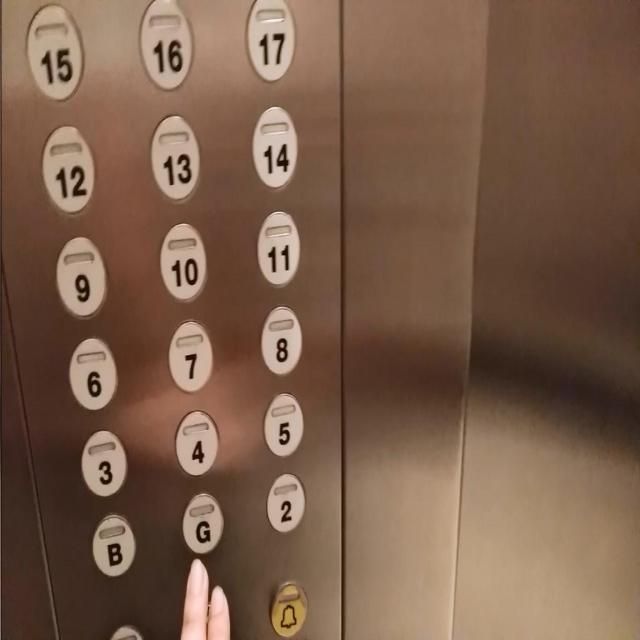10: (158, 218, 208, 304)
11: (255, 206, 301, 288)
12: (40, 120, 96, 216)
13: (148, 111, 202, 200)
14: (250, 102, 300, 188)
15: (23, 0, 85, 101)
16: (136, 0, 196, 90)
17: (244, 0, 298, 85)
2: (266, 468, 308, 537)
3: (80, 426, 128, 501)
4: (173, 408, 220, 479)
5: (261, 387, 306, 461)
6: (66, 333, 120, 412)
7: (166, 318, 215, 392)
8: (259, 301, 305, 378)
9: (54, 234, 108, 318)
B: (89, 509, 139, 579)
G: (180, 488, 227, 558)
alarm: (268, 575, 310, 638)
